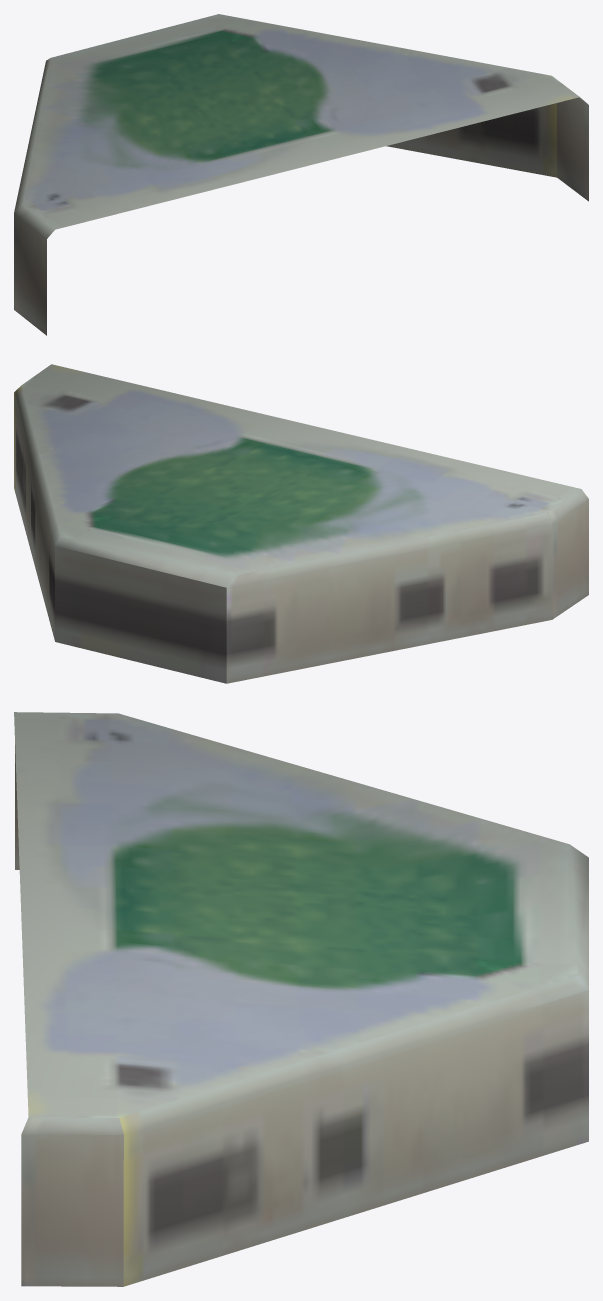
File: pref_sm_city_parterre06_snow_lv3.fbx
The picture shows the model from 3 angles, top to bottom: view 1: azimuth 30°, elevation 25°; view 2: azimuth 150°, elevation 25°; view 3: azimuth 270°, elevation 25°; orthographic projection. The views are drawn at different scales.
Visible parts, largest first — view 1: pref_sm_city_parterre06_snow_lv3; view 2: pref_sm_city_parterre06_snow_lv3; view 3: pref_sm_city_parterre06_snow_lv3.
Part boxes in pixels (x1=…): pref_sm_city_parterre06_snow_lv3: x1=14, y1=14, x2=588, y2=335; pref_sm_city_parterre06_snow_lv3: x1=14, y1=364, x2=588, y2=683; pref_sm_city_parterre06_snow_lv3: x1=14, y1=712, x2=588, y2=1286.
Bounding box in the file's own units: 5.16 × 0.9469 × 3.01.
